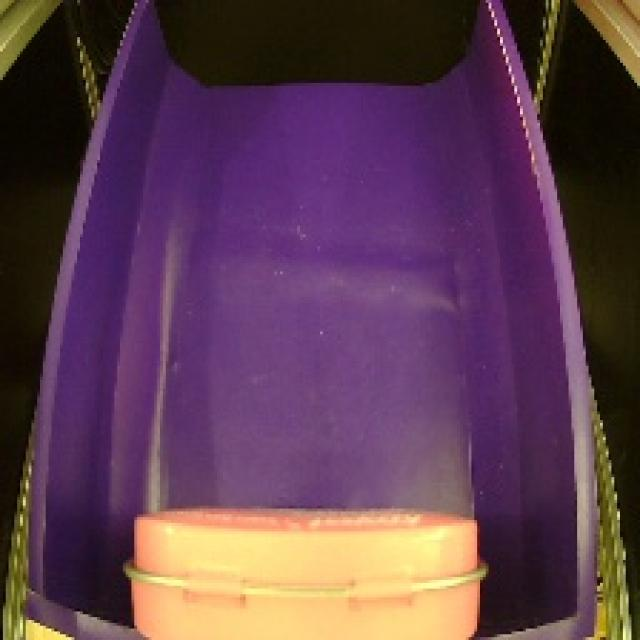metal: (109, 475, 503, 640)
